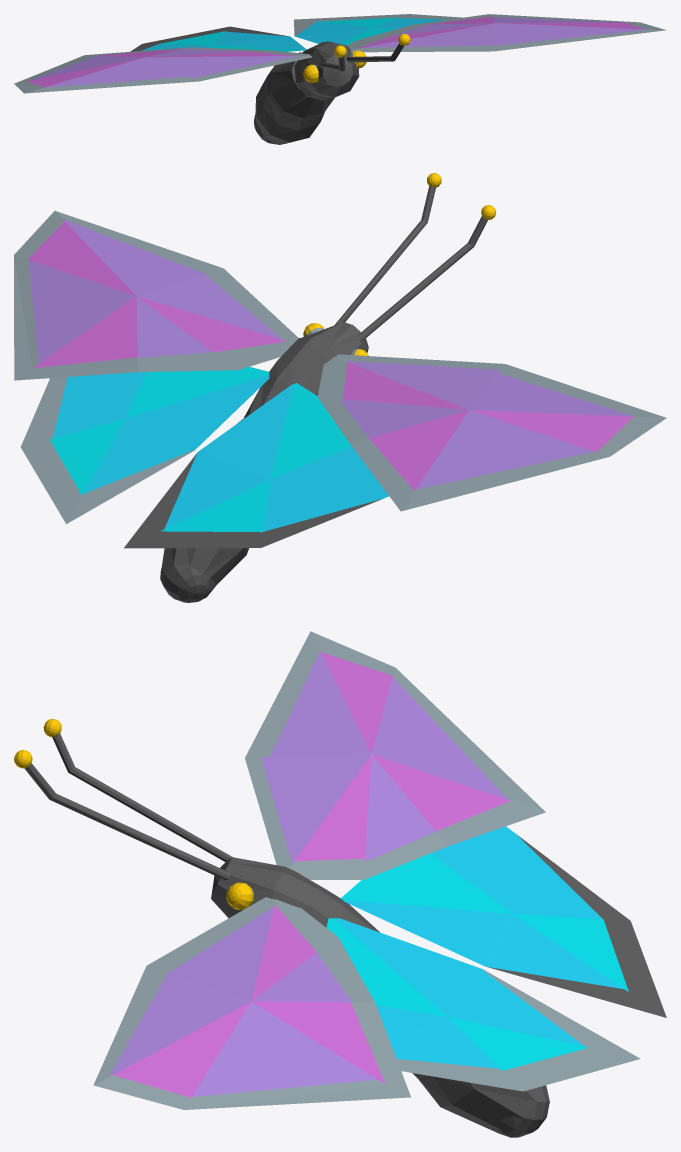
The model's file is butterfly.glb.
3 views of the same model, one above another, from view 1: azimuth 30°, elevation 25°; view 2: azimuth 150°, elevation 25°; view 3: azimuth 270°, elevation 25° (orthographic). The views are drawn at different scales.
Parts seen in each view (by area): view 1: group1115380185; view 2: group1115380185; view 3: group1115380185.
Part boxes in pixels (x1,y1,x2,y2): group1115380185: (14,14,666,144); group1115380185: (14,173,666,602); group1115380185: (14,631,666,1137).
Bounding box in the file's own units: 1.07 × 0.4209 × 0.6997.
